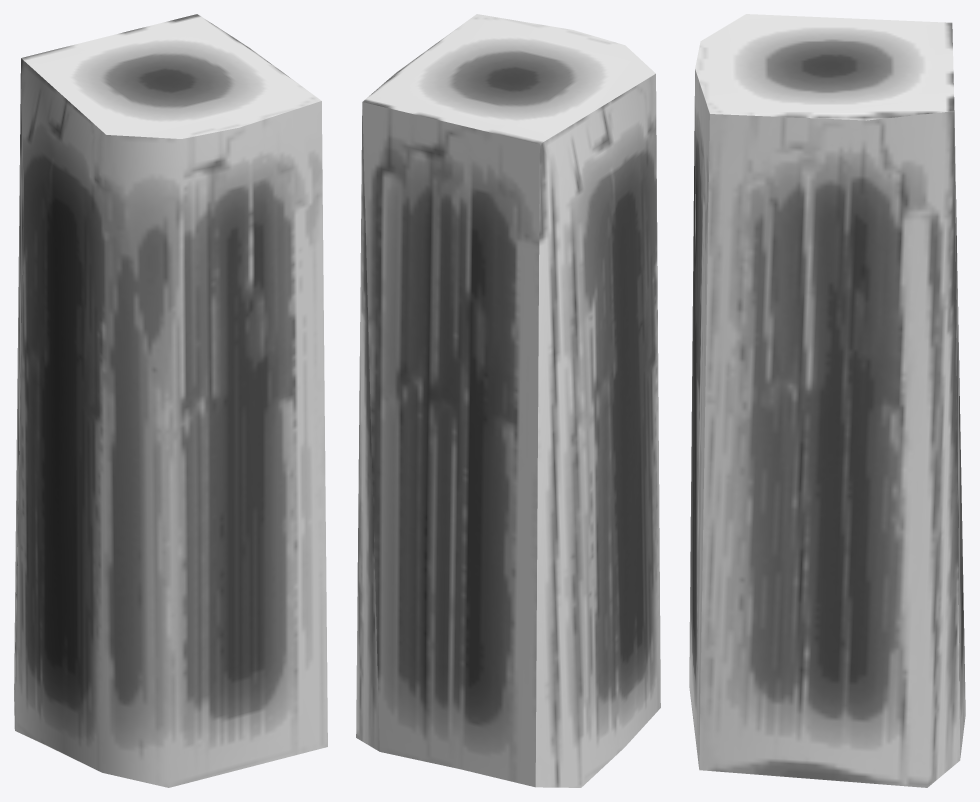
File: Crystal_02.FBX
The picture shows the model from 3 angles, left to right: view 1: azimuth 30°, elevation 25°; view 2: azimuth 150°, elevation 25°; view 3: azimuth 270°, elevation 25°; orthographic projection. The views are drawn at different scales.
Visible parts, largest first — view 1: Crystal_02; view 2: Crystal_02; view 3: Crystal_02.
Part boxes in pixels (x1=…): Crystal_02: x1=14, y1=14, x2=327, y2=787; Crystal_02: x1=356, y1=14, x2=660, y2=787; Crystal_02: x1=689, y1=14, x2=965, y2=787.
Size of the model in its own units: 0.2824 by 0.7807 by 0.2924.
